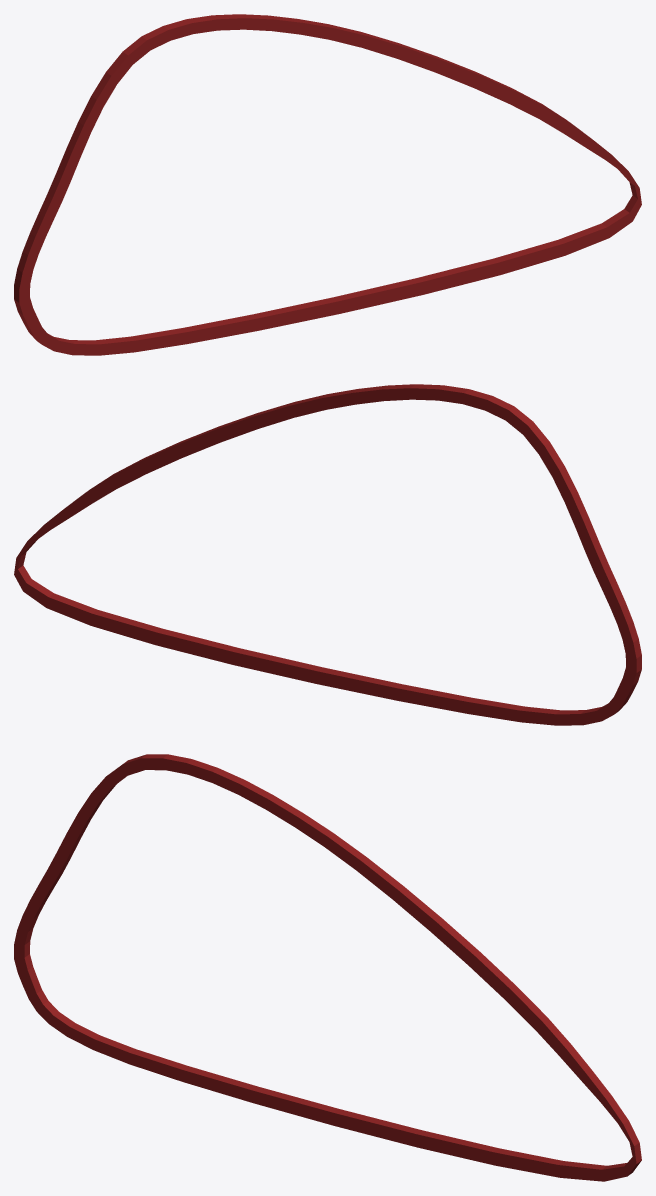
The picture shows the model from 3 angles, top to bottom: view 1: azimuth 30°, elevation 25°; view 2: azimuth 150°, elevation 25°; view 3: azimuth 330°, elevation 25°; orthographic projection.
Size of the model in its own units: 26.43 by 13.31 by 0.4.
